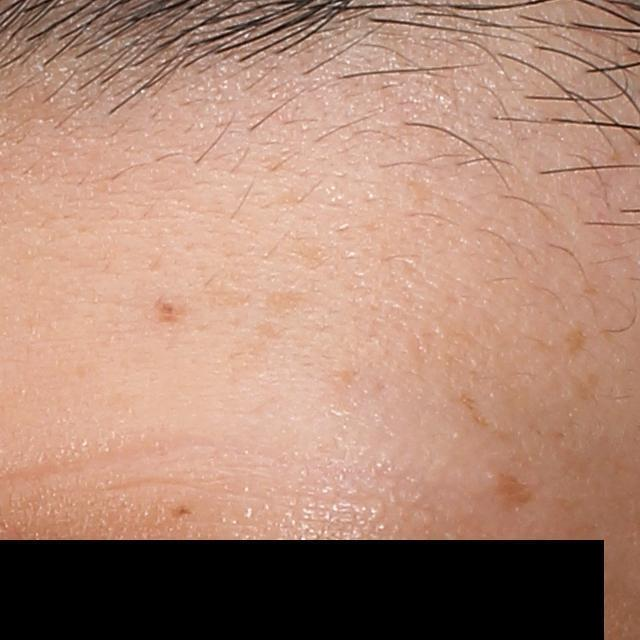melasma: (563, 327, 585, 360)
